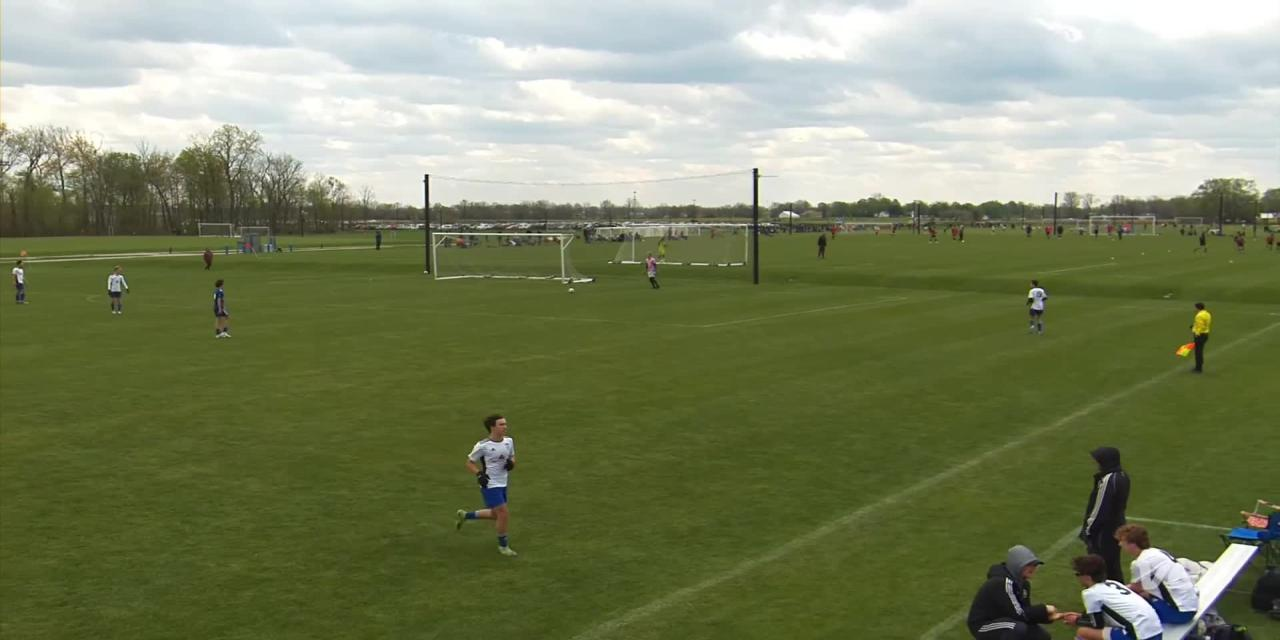goal: (407, 221, 609, 287)
sports ball: (558, 281, 590, 301)
